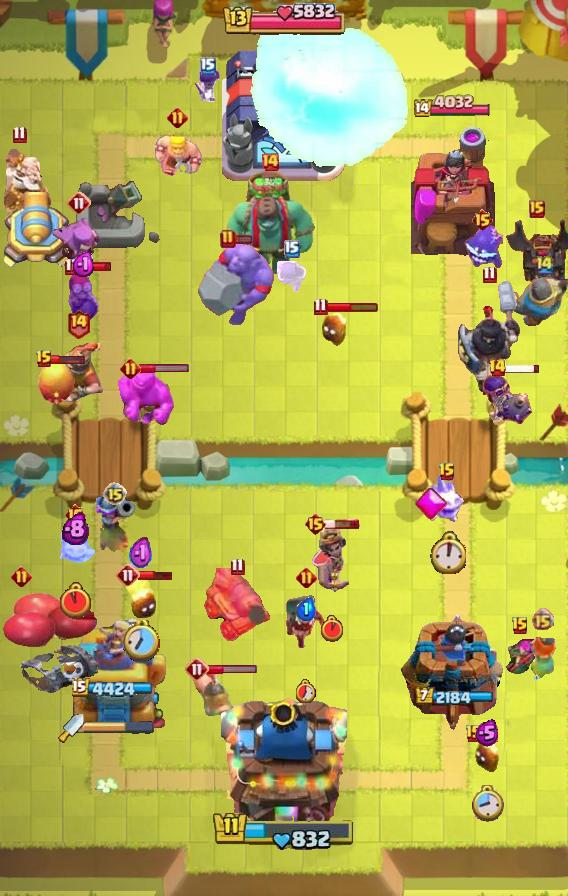archer: (501, 635, 539, 683)
bandit: (284, 593, 328, 653)
bar: (326, 301, 379, 313), (207, 664, 258, 675), (139, 363, 190, 374), (324, 518, 360, 530), (51, 353, 86, 365), (504, 363, 541, 374), (76, 261, 113, 272), (138, 570, 174, 581), (234, 234, 253, 245)
bar-level: (66, 308, 91, 339), (185, 657, 209, 681), (116, 563, 140, 587), (103, 482, 127, 506), (67, 191, 91, 215), (304, 512, 327, 536), (64, 503, 87, 527), (471, 208, 494, 232), (531, 608, 554, 631), (296, 567, 317, 588), (11, 566, 32, 587), (120, 358, 141, 379), (167, 107, 188, 128), (535, 254, 555, 275), (260, 152, 280, 172), (488, 358, 507, 378), (465, 724, 483, 744), (511, 616, 529, 636), (438, 462, 456, 482), (35, 349, 53, 369), (220, 229, 236, 249), (284, 240, 300, 258), (529, 200, 545, 218), (200, 57, 216, 75), (230, 557, 245, 576), (313, 297, 328, 316), (482, 265, 497, 284), (64, 257, 79, 276), (12, 125, 27, 144)
barbarian: (151, 128, 203, 180)
bomber: (66, 271, 102, 327)
bomber-evolution: (481, 372, 535, 428)
clock: (429, 531, 466, 574), (123, 620, 160, 661), (471, 785, 504, 823), (60, 582, 91, 619), (321, 615, 343, 642), (296, 679, 316, 703)
dagger-duchess-tower: (62, 615, 167, 731)
dagger-duchess-tower-bar: (84, 721, 154, 735)
electro-spirit: (461, 225, 503, 271)
elixir: (62, 512, 89, 545), (129, 536, 153, 572), (475, 719, 499, 747), (72, 251, 96, 278), (296, 597, 316, 621)
elixir-golem-mid: (118, 367, 174, 427)
evolution-symbol: (415, 487, 447, 521)
fire-spirit: (123, 571, 159, 621), (320, 310, 348, 348), (474, 739, 500, 773)
ice-spirit: (54, 527, 96, 573)
ice-spirit-evolution: (427, 473, 467, 525)
king-tower: (222, 31, 346, 181), (221, 690, 347, 826)
king-tower-bar: (212, 810, 356, 852), (221, 0, 347, 40)
knight: (508, 276, 568, 327)
little-prince: (310, 528, 354, 596)
mother-witch: (52, 216, 107, 279)
musketeer: (94, 496, 136, 552)
phoenix-egg: (36, 361, 76, 405)
queen-tower: (401, 612, 505, 731), (411, 122, 495, 256)
royal-hog: (191, 668, 233, 718)
royal-recruit: (46, 343, 110, 405)
skeleton-evolution: (192, 64, 224, 104), (277, 261, 308, 297)
tower-bar: (414, 94, 493, 120), (72, 678, 157, 700), (414, 687, 493, 707)
valkyrie: (523, 632, 561, 684)
